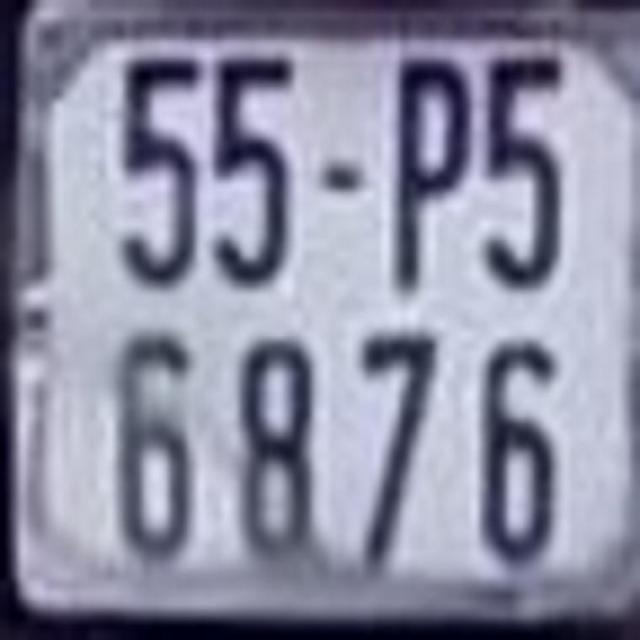5: (487, 53, 568, 290), (214, 49, 294, 282), (123, 58, 202, 281)
6: (477, 336, 562, 575), (116, 332, 200, 556)
7: (361, 335, 442, 571)
8: (242, 345, 316, 554)
P: (398, 54, 477, 302)
